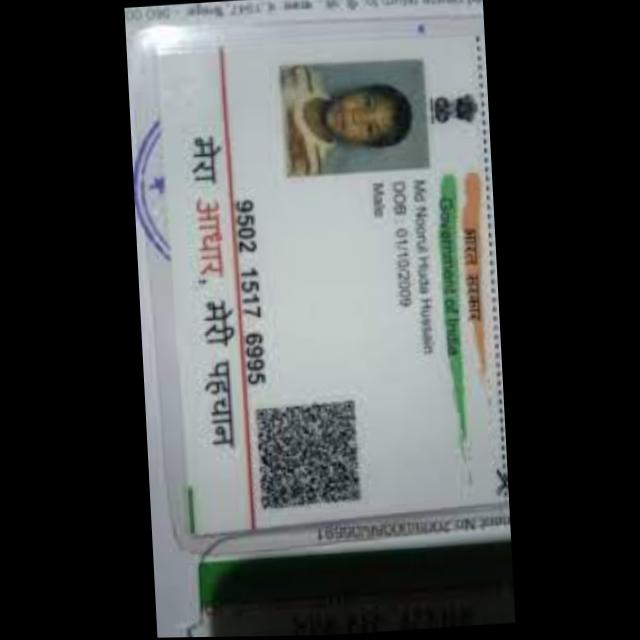aadhaar: (152, 22, 511, 546)
